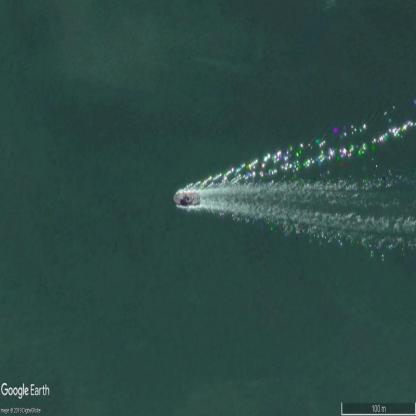ship: (174, 189, 202, 210)
